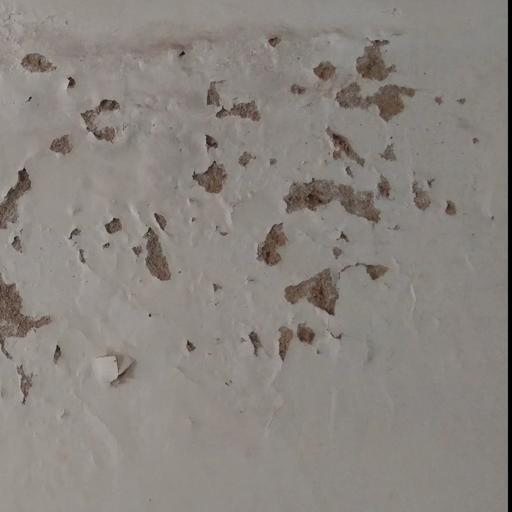peeling: (4, 22, 485, 412)
